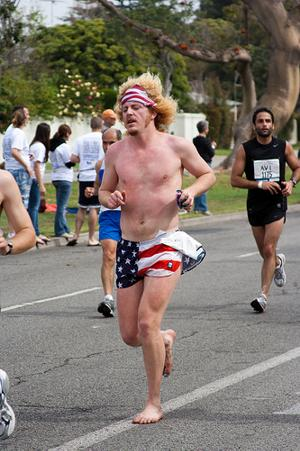person: (97, 68, 217, 425)
